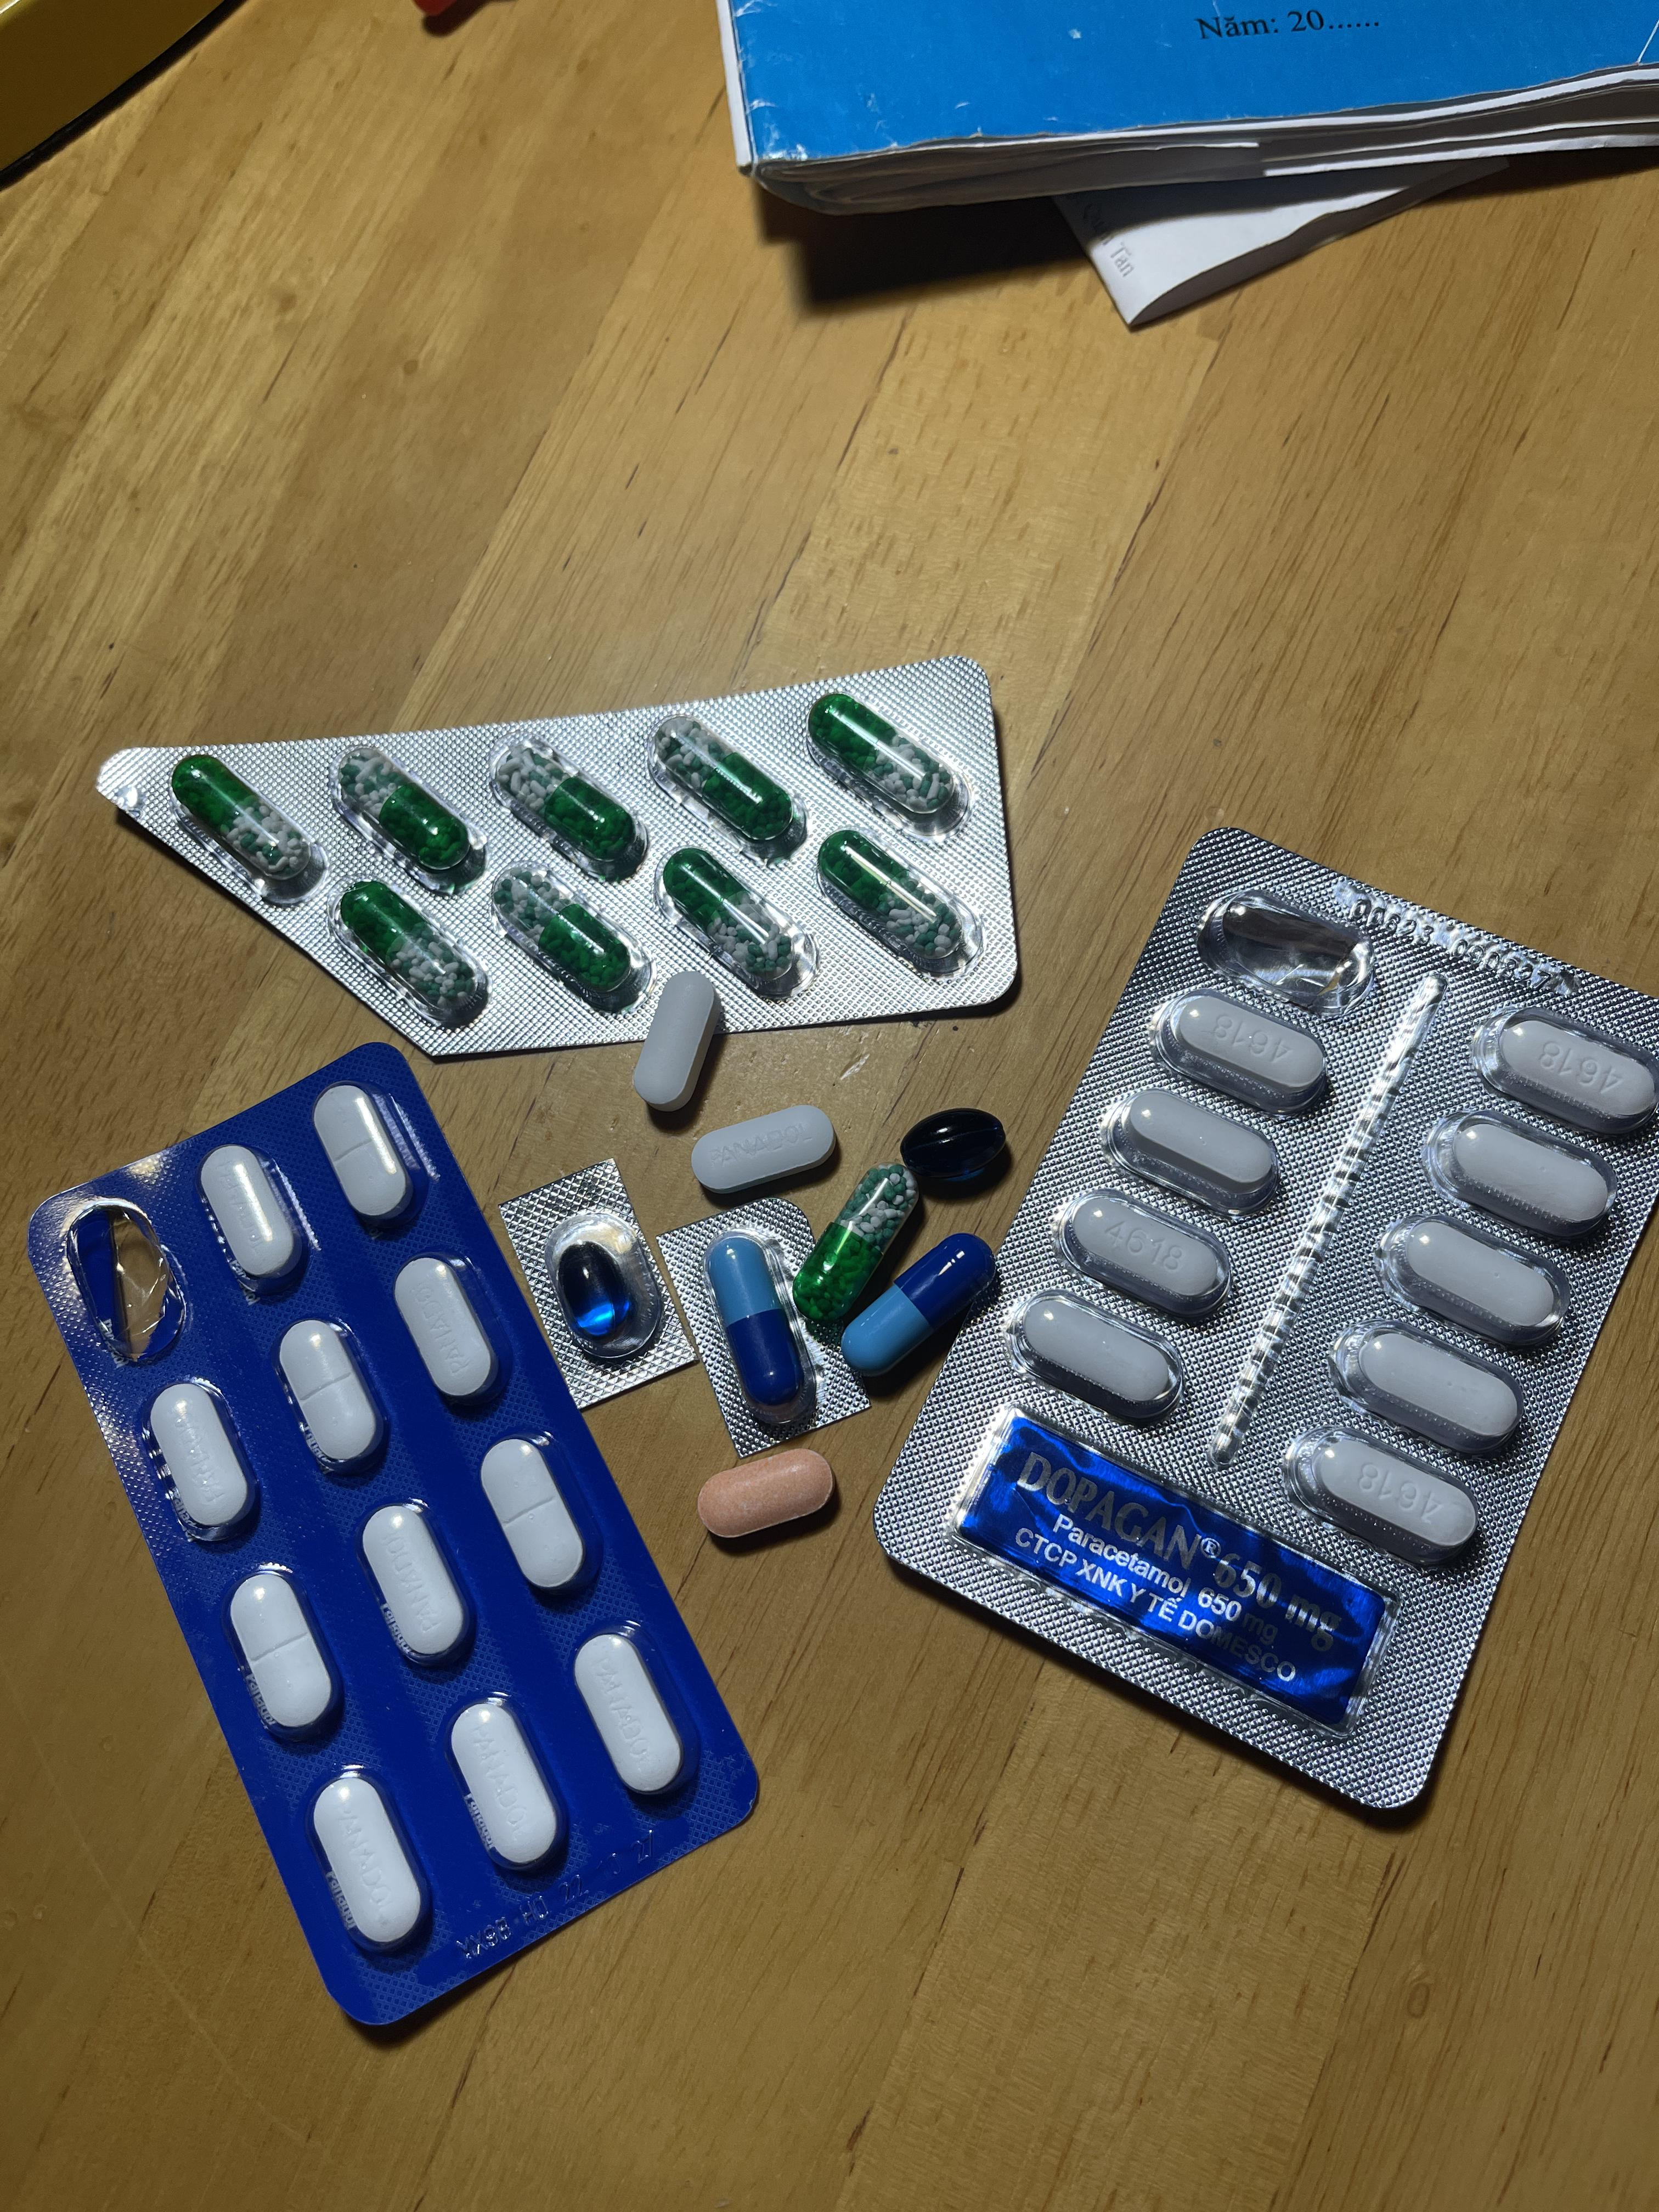Lincomyxin_500mg: (897, 1108, 1007, 1188), (558, 1242, 633, 1338)
Loratadine_10mg: (694, 1451, 828, 1538)
Paracetamol_350mg: (310, 1768, 427, 1952), (448, 1696, 565, 1874), (228, 1566, 340, 1738), (577, 1632, 690, 1799), (361, 1501, 471, 1665), (479, 1437, 591, 1595), (150, 1383, 258, 1543), (279, 1317, 387, 1472), (394, 1259, 500, 1406), (199, 1144, 305, 1291), (312, 1087, 416, 1228), (688, 1103, 835, 1191)
Paracetamol_500mg: (1290, 1426, 1490, 1562), (1154, 989, 1328, 1118), (1114, 1087, 1288, 1214), (1070, 1181, 1234, 1315), (1009, 1294, 1164, 1425), (1445, 1116, 1612, 1231), (1349, 1331, 1516, 1444), (1396, 1217, 1560, 1329), (1502, 1024, 1649, 1122), (629, 979, 721, 1108)
Paracetamol_650mg: (169, 751, 324, 904), (810, 691, 974, 836), (333, 876, 488, 1026), (333, 742, 486, 892), (491, 860, 647, 1008), (495, 738, 653, 883), (662, 845, 812, 995), (657, 709, 812, 853), (819, 831, 974, 975), (795, 1165, 918, 1320)
pill: (838, 1228, 983, 1378), (706, 1237, 805, 1414)
